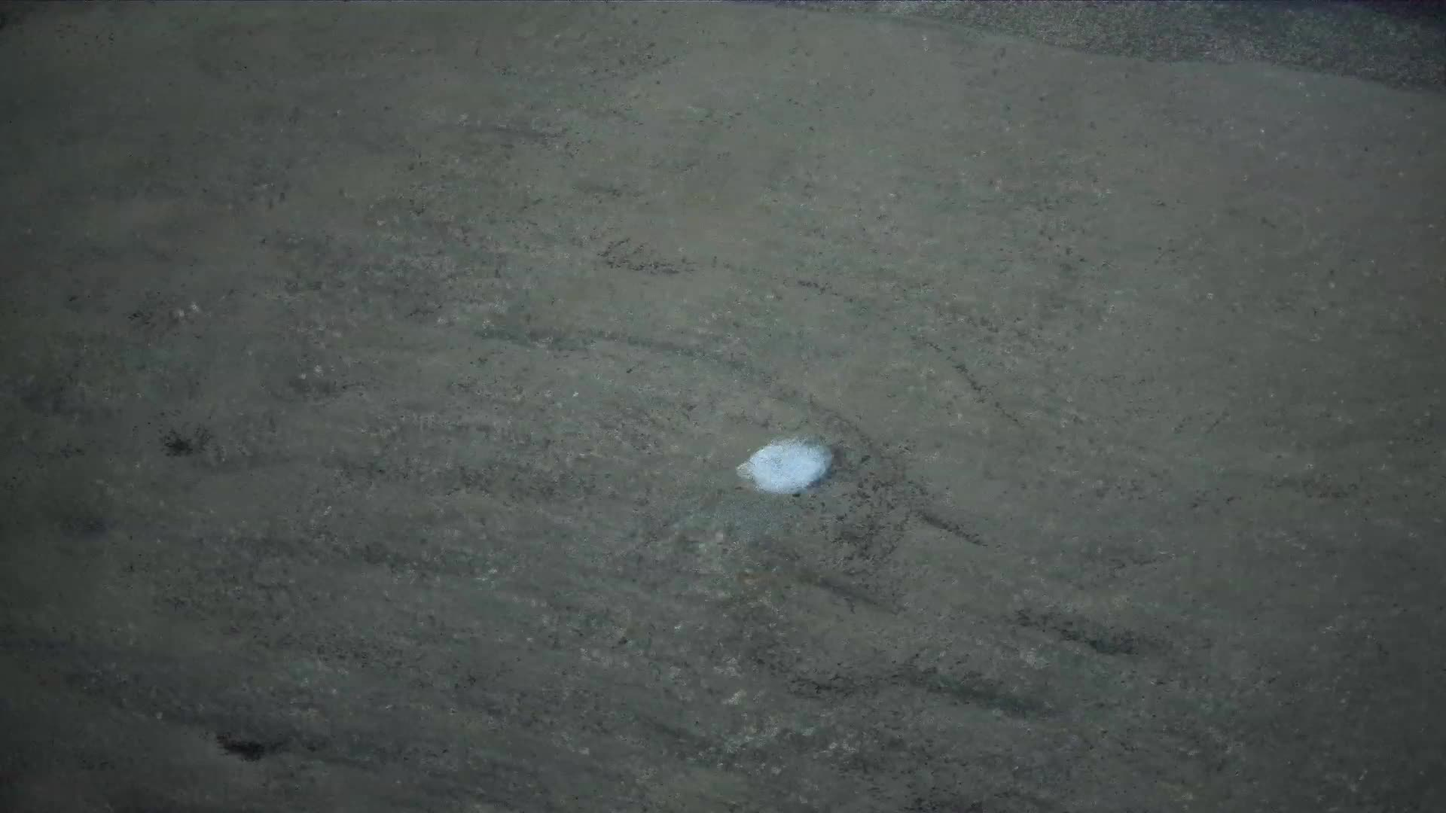Target: (735, 434, 834, 498)
